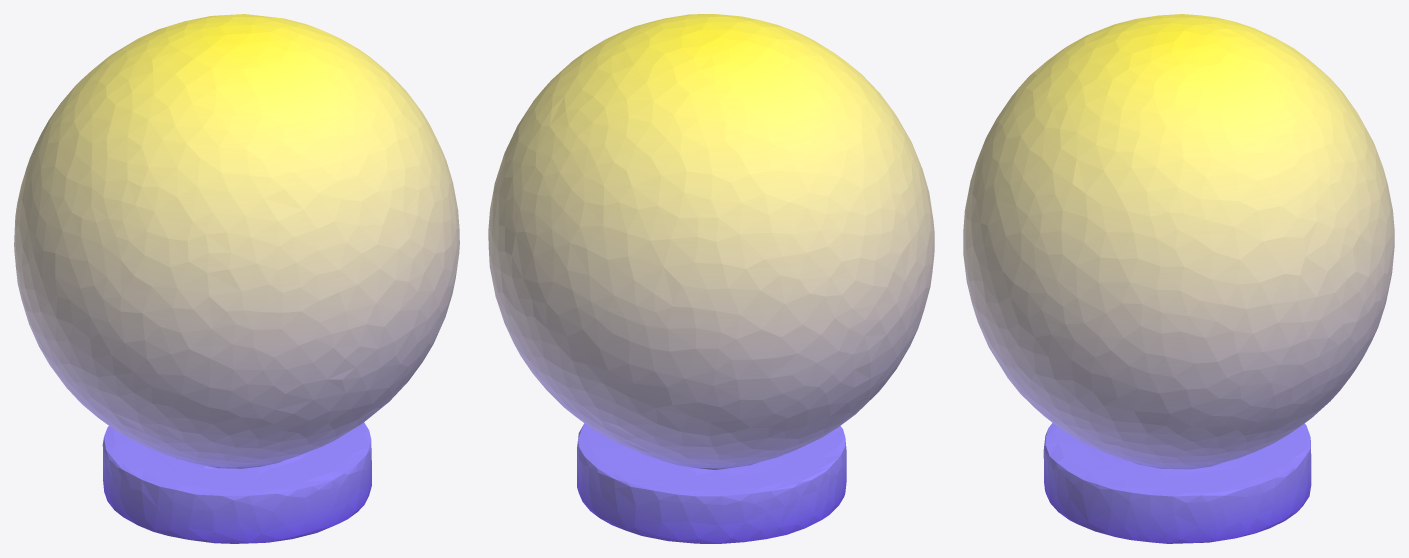
File: 135_cyb_laser_gradient_fish_scales_2820_2026_10_03_2bd96c.glb
3 renders of one model, left to right at view 1: azimuth 30°, elevation 25°; view 2: azimuth 150°, elevation 25°; view 3: azimuth 270°, elevation 25°, orthographic.
Visible parts, largest first — view 1: geometry_0; view 2: geometry_0; view 3: geometry_0.
Part boxes in pixels (x1,y1,x2,y2): geometry_0: (14,14,459,543); geometry_0: (488,14,934,543); geometry_0: (963,14,1394,543).
Bounding box in the file's own units: 0.8986 × 1 × 0.8661.
